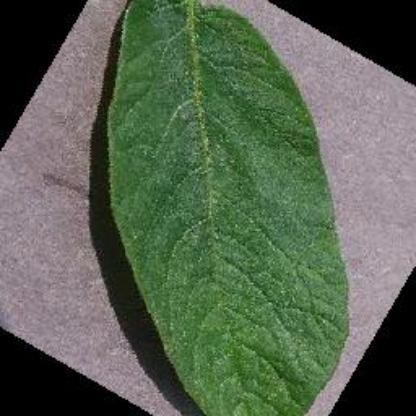Healthy-plant: (28, 2, 399, 416)
